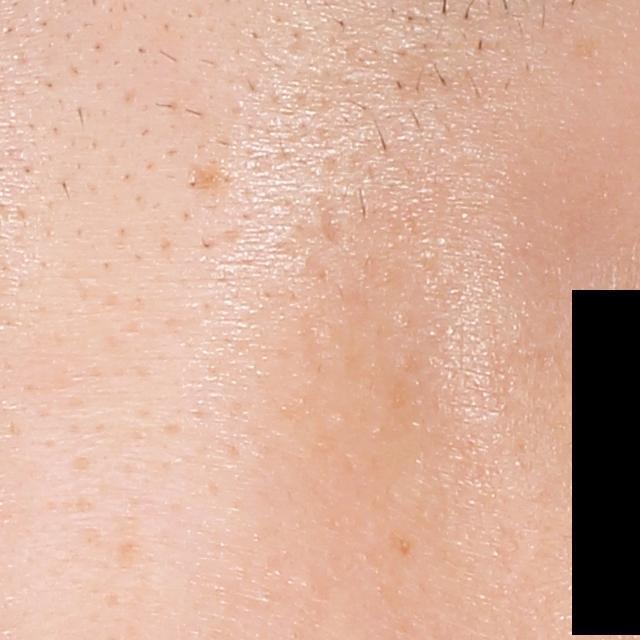atrophic_scar: (318, 198, 348, 250)
melasma: (387, 533, 418, 560)
